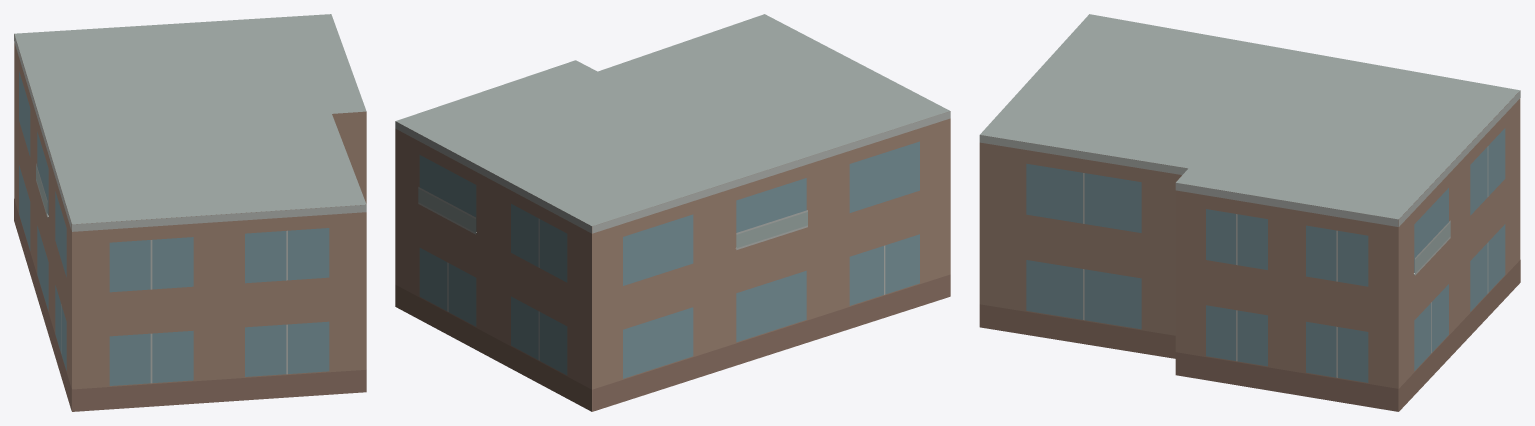
The model's file is survey-upis-32966047.glb.
The picture shows the model from 3 angles, left to right: view 1: azimuth 30°, elevation 25°; view 2: azimuth 150°, elevation 25°; view 3: azimuth 270°, elevation 25°; orthographic projection. The views are drawn at different scales.
Visible parts, largest first — view 1: survey-upis-32966047.tmp; view 2: survey-upis-32966047.tmp; view 3: survey-upis-32966047.tmp.
Boxes of the visible parts, <box> form: survey-upis-32966047.tmp: <box>14,14,366,411</box>; survey-upis-32966047.tmp: <box>395,14,950,411</box>; survey-upis-32966047.tmp: <box>979,14,1520,411</box>.
Bounding box in the file's own units: 13.98 × 6.1 × 15.54.
